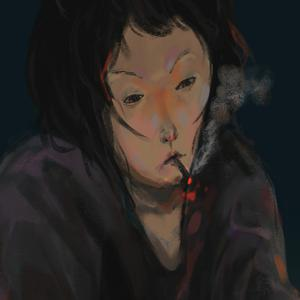cigarette: (172, 157, 194, 186)
